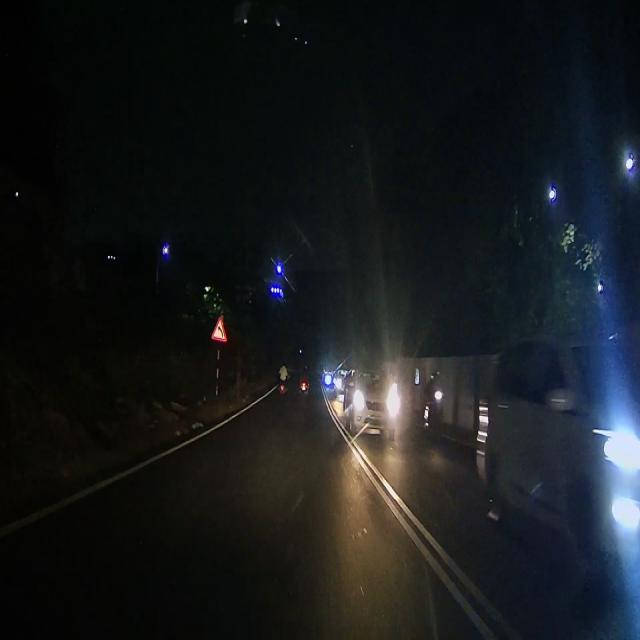left-hand-curve: (210, 314, 228, 343)
